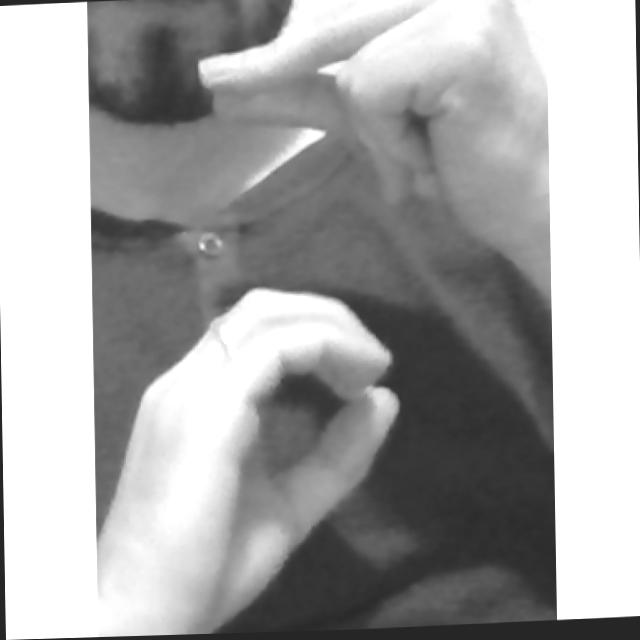O--: (86, 0, 555, 637)
